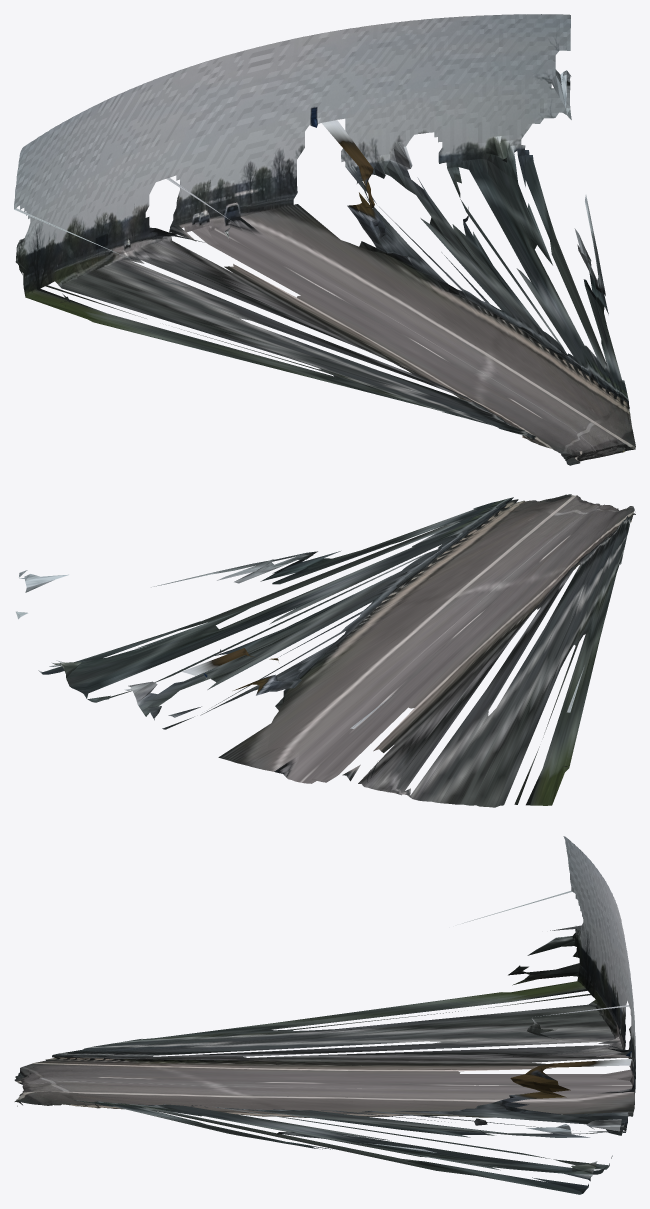
3 views of the same model, one above another, from view 1: azimuth 30°, elevation 25°; view 2: azimuth 150°, elevation 25°; view 3: azimuth 270°, elevation 25° (orthographic). The views are drawn at different scales.
Parts seen in each view (by area): view 1: defaultobject; view 2: defaultobject; view 3: defaultobject.
Boxes of the visible parts, left/top/right/bottom form: defaultobject: left=14, top=14, right=635, bottom=465; defaultobject: left=16, top=494, right=635, bottom=807; defaultobject: left=14, top=836, right=635, bottom=1194.
Size of the model in its own units: 41.05 by 12.47 by 44.42.
Materials: 1 (1 with a texture image).
